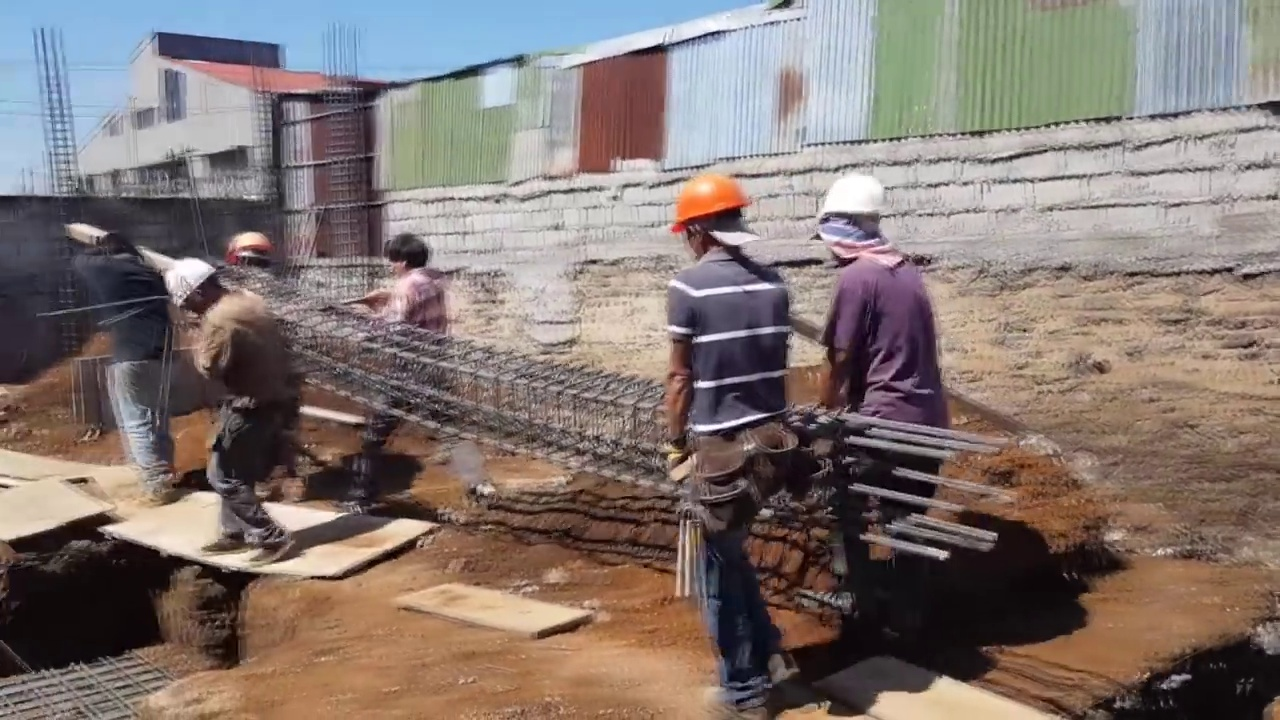helmet: (666, 174, 746, 235), (815, 171, 896, 221), (161, 257, 218, 310), (229, 229, 275, 258)
helmet-off: (380, 232, 429, 286), (100, 234, 138, 261)
helmet-on: (667, 172, 753, 268), (817, 171, 891, 267), (161, 255, 230, 320), (220, 230, 277, 270)
person: (661, 173, 804, 720), (807, 178, 952, 588), (335, 229, 498, 516), (161, 255, 285, 573), (70, 214, 202, 504)
